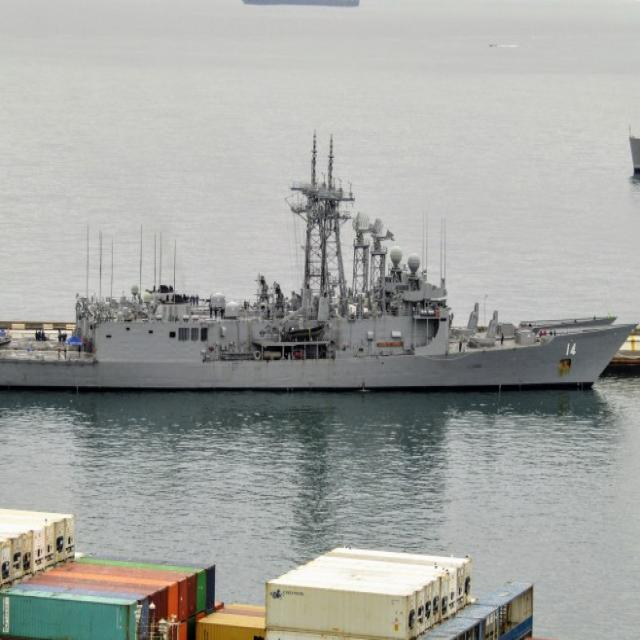Fragata: (1, 131, 640, 402)
